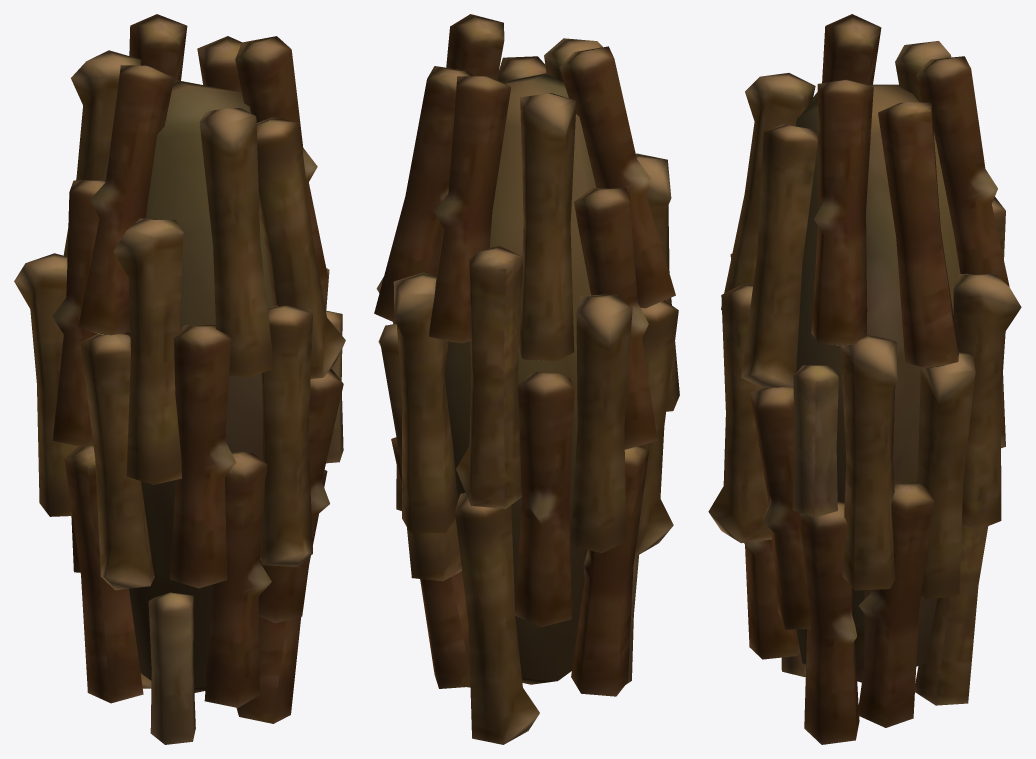
File: bagworm.glb
3 views of the same model, side by side, from view 1: azimuth 30°, elevation 25°; view 2: azimuth 150°, elevation 25°; view 3: azimuth 270°, elevation 25° (orthographic).
Size of the model in its own units: 1.12 by 2.65 by 1.14.
Materials: 1 (1 with a texture image).
